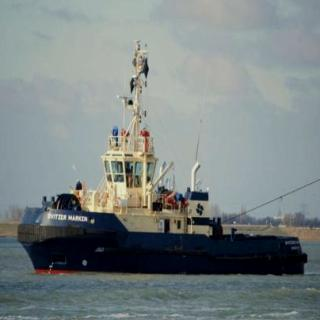Tug Boat: (12, 47, 298, 272)
